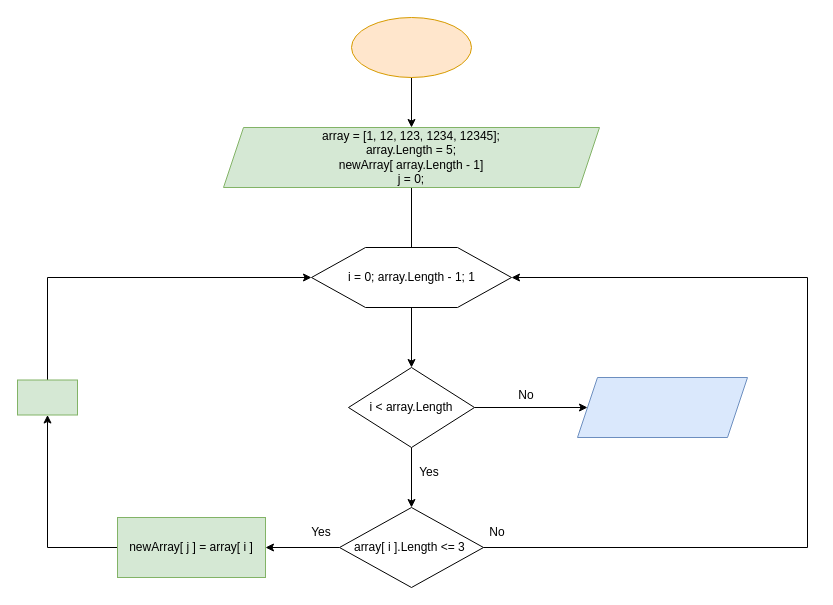
Image size: 833x605. Some labels were removed from this diagram. Here are the shapes that lost their labels. From the top down, the box of each, then its label:
(350, 16, 472, 78): Start
(16, 379, 78, 415): j = j + 1
(576, 376, 748, 438): newArray = [1, 12, 123]
